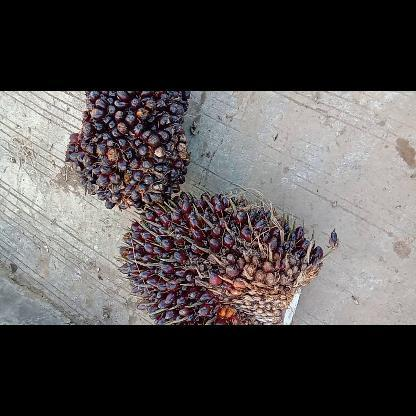TBS mentah: (119, 192, 338, 324), (65, 90, 190, 208)
